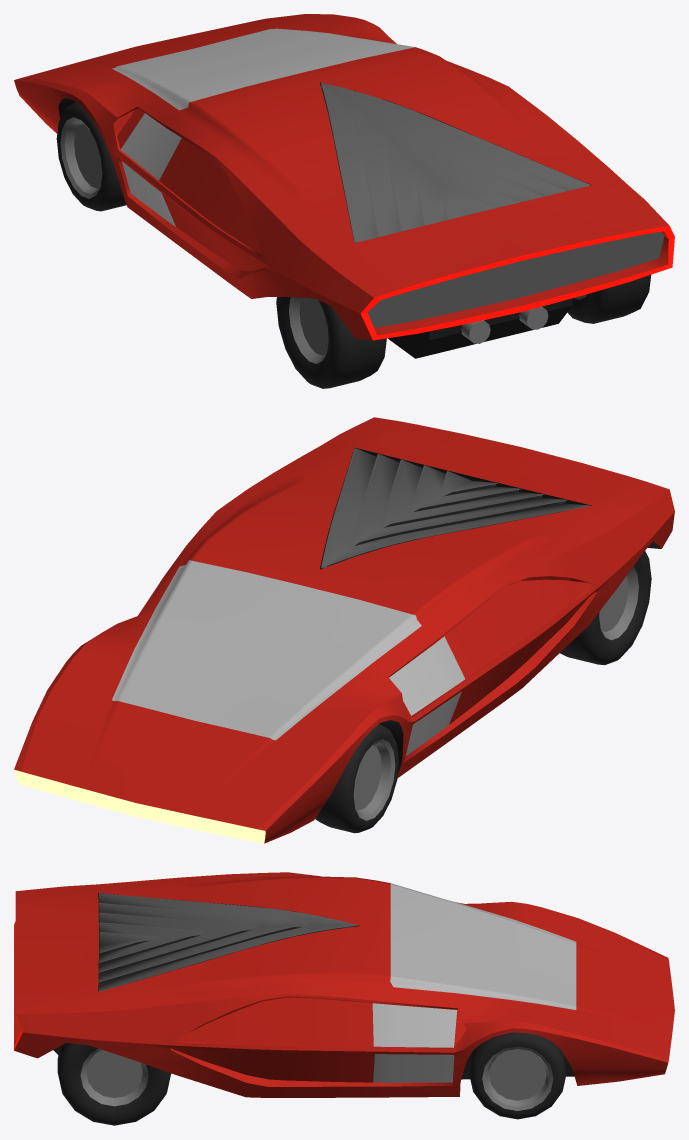
File: stratos.fbx
3 renders of one model, top to bottom at view 1: azimuth 30°, elevation 25°; view 2: azimuth 150°, elevation 25°; view 3: azimuth 270°, elevation 25°, orthographic. The views are drawn at different scales.
Parts seen in each view (by area): view 1: body, tire_BL, tire_FL, tire_BR; view 2: body, tire_FL, tire_BL; view 3: body, tire_FR, tire_BR.
Part boxes in pixels (x1,y1,x2,y2): body: [14, 14, 674, 358]; tire_BL: [276, 297, 386, 388]; tire_FL: [56, 102, 126, 211]; tire_BR: [567, 275, 651, 323]; body: [14, 417, 674, 843]; tire_FL: [315, 724, 398, 833]; tire_BL: [560, 551, 651, 665]; body: [14, 872, 674, 1097]; tire_FR: [469, 1032, 566, 1119]; tire_BR: [57, 1042, 171, 1125].
Size of the model in its own units: 372 by 172 by 742.
